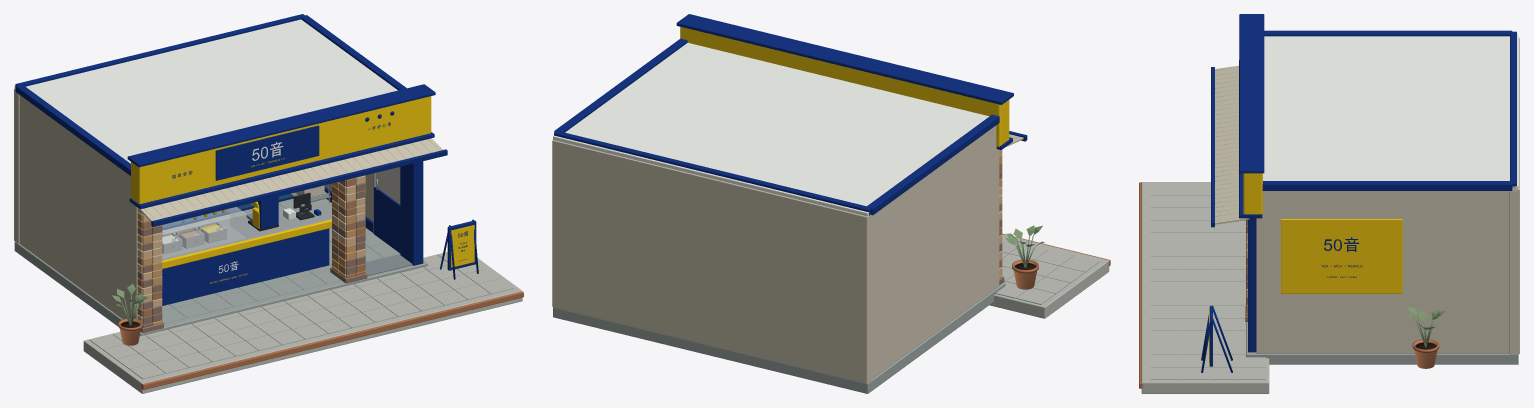
The model's file is 50yin-tea-shop.glb.
The picture shows the model from 3 angles, left to right: view 1: azimuth 30°, elevation 25°; view 2: azimuth 150°, elevation 25°; view 3: azimuth 270°, elevation 25°; orthographic projection. The views are drawn at different scales.
Parts seen in each view (by area): view 1: STATIC__01 Architecture, STATIC__05 Environment, STATIC__02 Branding, EQ_StaffDoor_01__BODY, EQ_CupSealer_01__BODY, EQ_POS_01__BODY, STATIC__04 Props, EQ_ToppingBin_04__布丁__BODY, EQ_ToppingBin_03__仙草__BODY; view 2: STATIC__01 Architecture, STATIC__05 Environment, STATIC__04 Props; view 3: STATIC__01 Architecture, STATIC__05 Environment, STATIC__02 Branding, STATIC__04 Props.
Part boxes in pixels (bbox=[...]): STATIC__01 Architecture: bbox=[14, 14, 447, 336]; STATIC__05 Environment: bbox=[83, 219, 523, 393]; STATIC__02 Branding: bbox=[172, 111, 467, 283]; EQ_StaffDoor_01__BODY: bbox=[373, 167, 400, 252]; EQ_CupSealer_01__BODY: bbox=[248, 196, 278, 231]; EQ_POS_01__BODY: bbox=[283, 192, 321, 220]; STATIC__04 Props: bbox=[118, 318, 142, 345]; EQ_ToppingBin_04__布丁__BODY: bbox=[198, 221, 226, 243]; EQ_ToppingBin_03__仙草__BODY: bbox=[175, 227, 204, 248]; STATIC__01 Architecture: bbox=[552, 14, 1027, 393]; STATIC__05 Environment: bbox=[989, 225, 1110, 318]; STATIC__04 Props: bbox=[1012, 259, 1038, 289]; STATIC__01 Architecture: bbox=[1211, 14, 1519, 364]; STATIC__05 Environment: bbox=[1139, 182, 1445, 393]; STATIC__02 Branding: bbox=[1281, 219, 1402, 293]; STATIC__04 Props: bbox=[1412, 339, 1439, 368].
Size of the model in its own units: 8.2 by 3.84 by 6.57.
